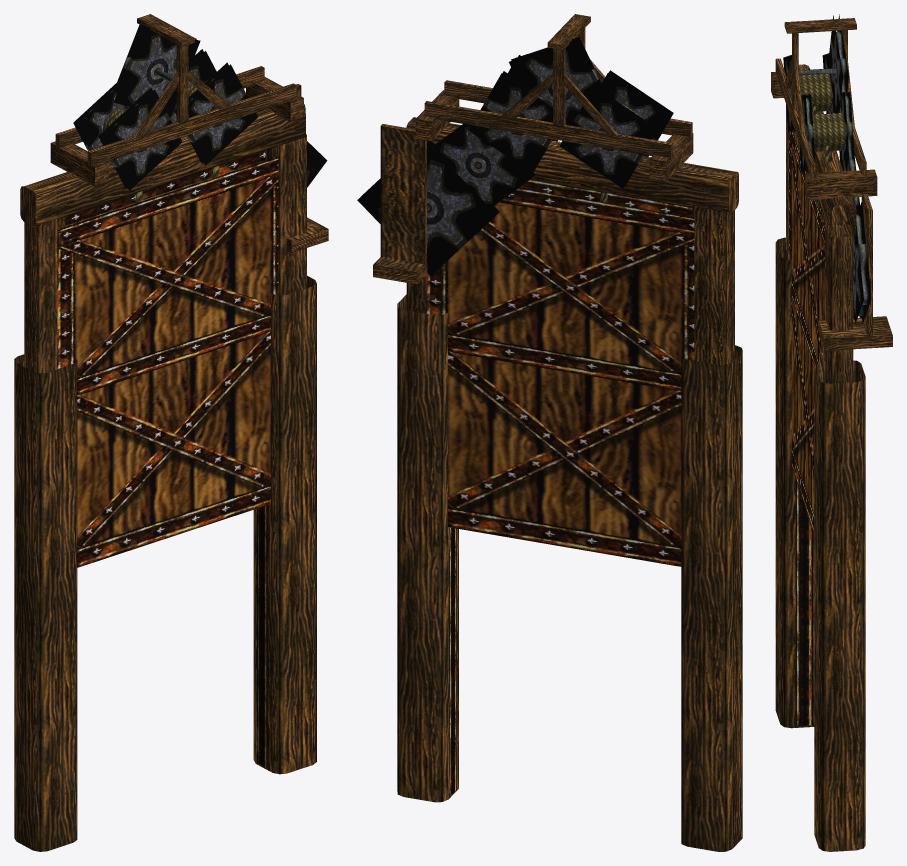
Rendered from CINE11_GANDALFANDBILBOREUNITED_SHOT03_GATEB.fbx.
3 renders of one model, left to right at view 1: azimuth 30°, elevation 25°; view 2: azimuth 150°, elevation 25°; view 3: azimuth 270°, elevation 25°, orthographic. The views are drawn at different scales.
Parts seen in each view (by area): view 1: CINE11_GANDALFANDBILBOREUNITED_SHOT03_GATEB; view 2: CINE11_GANDALFANDBILBOREUNITED_SHOT03_GATEB; view 3: CINE11_GANDALFANDBILBOREUNITED_SHOT03_GATEB.
Part boxes in pixels (left/top/right/bottom): CINE11_GANDALFANDBILBOREUNITED_SHOT03_GATEB: left=14, top=14, right=328, bottom=851; CINE11_GANDALFANDBILBOREUNITED_SHOT03_GATEB: left=357, top=14, right=742, bottom=851; CINE11_GANDALFANDBILBOREUNITED_SHOT03_GATEB: left=771, top=14, right=892, bottom=851.
Size of the model in its own units: 37833 by 82575 by 12059.
Materials: 7 (7 with a texture image).
